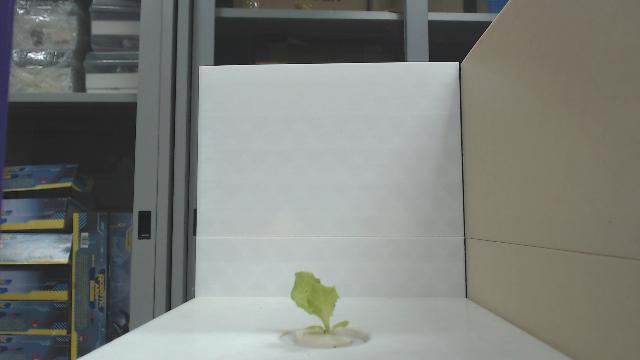Seedling Stage: (286, 268, 354, 340)
